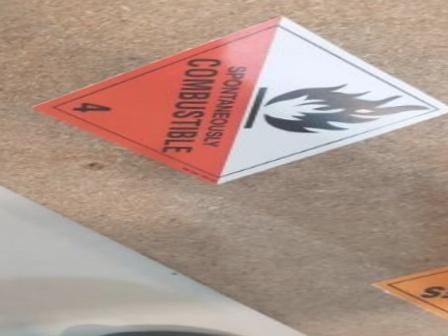spontaneously-combustible: (30, 13, 448, 186)
